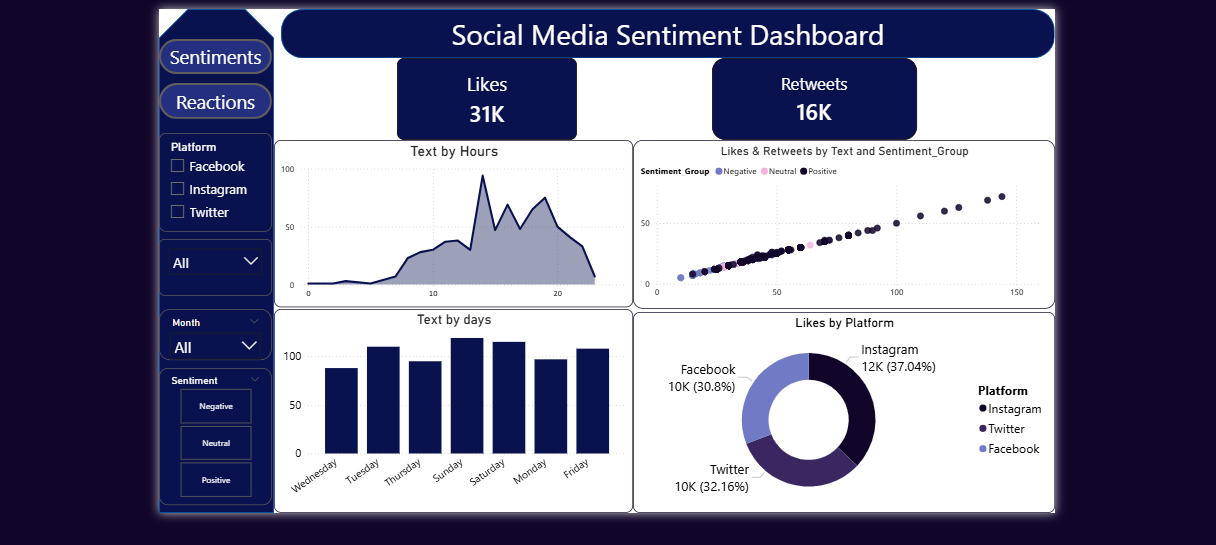

What the dashboard file says about the page in this screenshot:
{"tool":"powerbi","page":{"name":"Reactions","canvas":[1280,720],"ordinal":1},"visuals":[{"type":"shape","box":[0,0,164.3,720],"z":0},{"type":"shape","box":[174.8,0,1105.4,70.2],"z":1000},{"type":"areaChart","title":"Text by Hours","fields":{"Category":["Sentiment dataset.Hour"],"Y":["CountNonNull(Sentiment dataset.Text)"]},"box":[164.3,187.1,512.9,238.6],"z":2000},{"type":"slicer","fields":{"Values":["Sentiment dataset.Timestamp.Variation.Date Hierarchy.Year"]},"box":[0,328.6,161.4,81.4],"z":3000},{"type":"slicer","fields":{"Values":["Sentiment dataset.Timestamp.Variation.Date Hierarchy.Month"]},"box":[0,428.6,161.4,72.9],"z":4000},{"type":"donutChart","fields":{"Category":["Sentiment dataset.Platform"],"Y":["(measures).Likes"]},"box":[677.1,432.9,602.9,287.1],"z":5000},{"type":"scatterChart","title":"Likes & Retweets by Text and Sentiment_Group","fields":{"X":["Sum(Sentiment dataset.Likes)"],"Y":["Sum(Sentiment dataset.Retweets)"],"Series":["Sentiment dataset.Sentiment_Group"],"Category":["Sentiment dataset.Text"]},"box":[677.1,187.1,602.9,241.4],"z":6000},{"type":"slicer","fields":{"Values":["Sentiment dataset.Sentiment_Group"]},"box":[0,512.9,161.4,195.7],"z":7000},{"type":"cardVisual","fields":{"Data":["(measures).Likes"]},"box":[340,70,257.1,117.1],"z":8000},{"type":"cardVisual","fields":{"Data":["(measures).Retweets"]},"box":[790,70,292.9,117.1],"z":9000},{"type":"columnChart","title":" Text by days","fields":{"Category":["Sentiment dataset.day_name"],"Y":["CountNonNull(Sentiment dataset.Text)"]},"box":[164.3,428.6,512.9,291.4],"z":10000},{"type":"slicer","fields":{"Values":["Sentiment dataset.Platform"]},"box":[0,177.1,161.4,141.4],"z":11000},{"type":"actionButton","box":[0,42.9,161.4,50],"z":12000},{"type":"actionButton","box":[0,105.7,161.4,51.4],"z":13000}]}

Visuals, with their boxes on the page's 1280x720 design canvas (x1, y1, x2, y2). These are canvas units, not pixel positions in the 1216x545 screenshot, which may show the page scaled, cropped or inside an application window:
shape: bbox=[0, 0, 164, 720]
shape: bbox=[175, 0, 1280, 70]
"Text by Hours" areaChart: bbox=[164, 187, 677, 426]
slicer - Sentiment dataset.Timestamp.Variation.Date Hierarchy.Year: bbox=[0, 329, 161, 410]
slicer - Sentiment dataset.Timestamp.Variation.Date Hierarchy.Month: bbox=[0, 429, 161, 502]
donutChart - Sentiment dataset.Platform x (measures).Likes: bbox=[677, 433, 1280, 720]
"Likes & Retweets by Text and Sentiment_Group" scatterChart: bbox=[677, 187, 1280, 428]
slicer - Sentiment dataset.Sentiment_Group: bbox=[0, 513, 161, 709]
cardVisual - (measures).Likes: bbox=[340, 70, 597, 187]
cardVisual - (measures).Retweets: bbox=[790, 70, 1083, 187]
" Text by days" columnChart: bbox=[164, 429, 677, 720]
slicer - Sentiment dataset.Platform: bbox=[0, 177, 161, 318]
actionButton: bbox=[0, 43, 161, 93]
actionButton: bbox=[0, 106, 161, 157]
